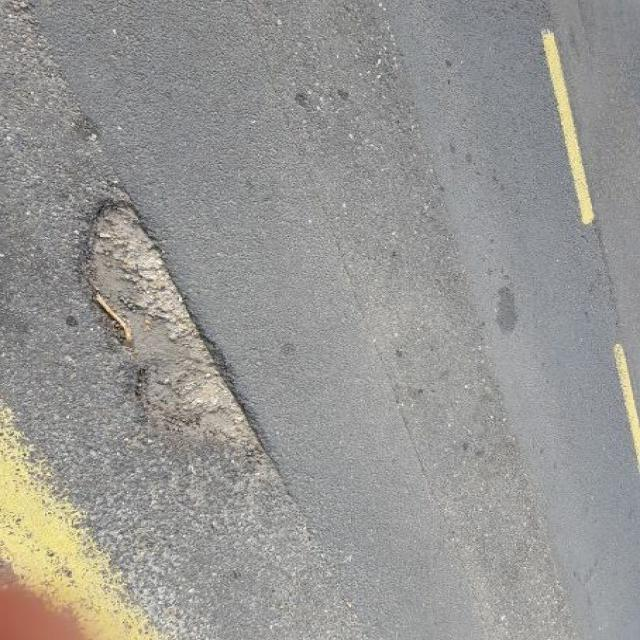Pothole: (68, 188, 278, 468)
